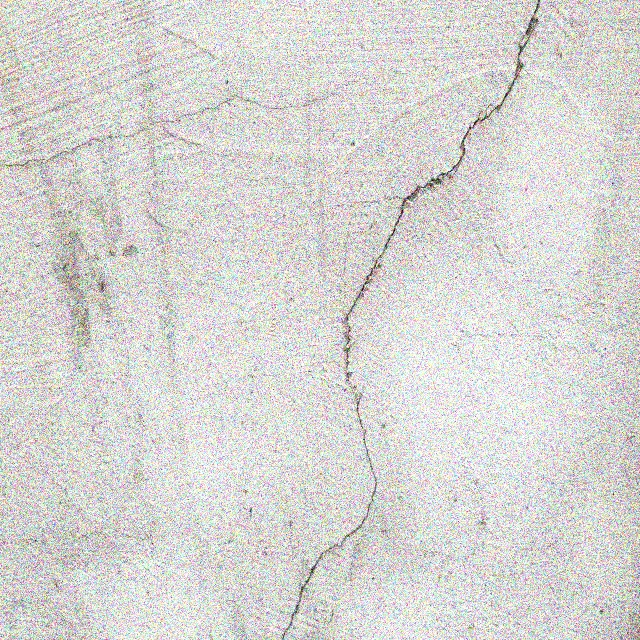SurfaceCrack: (211, 1, 567, 639)
